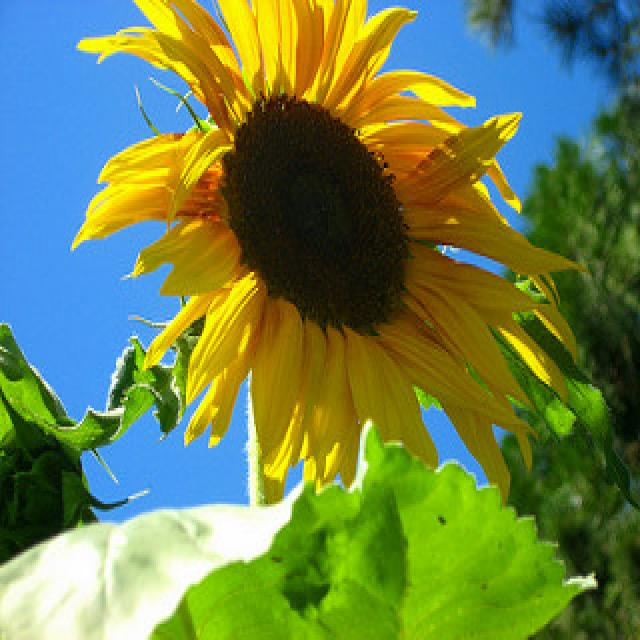sunflower: (52, 0, 604, 507)
